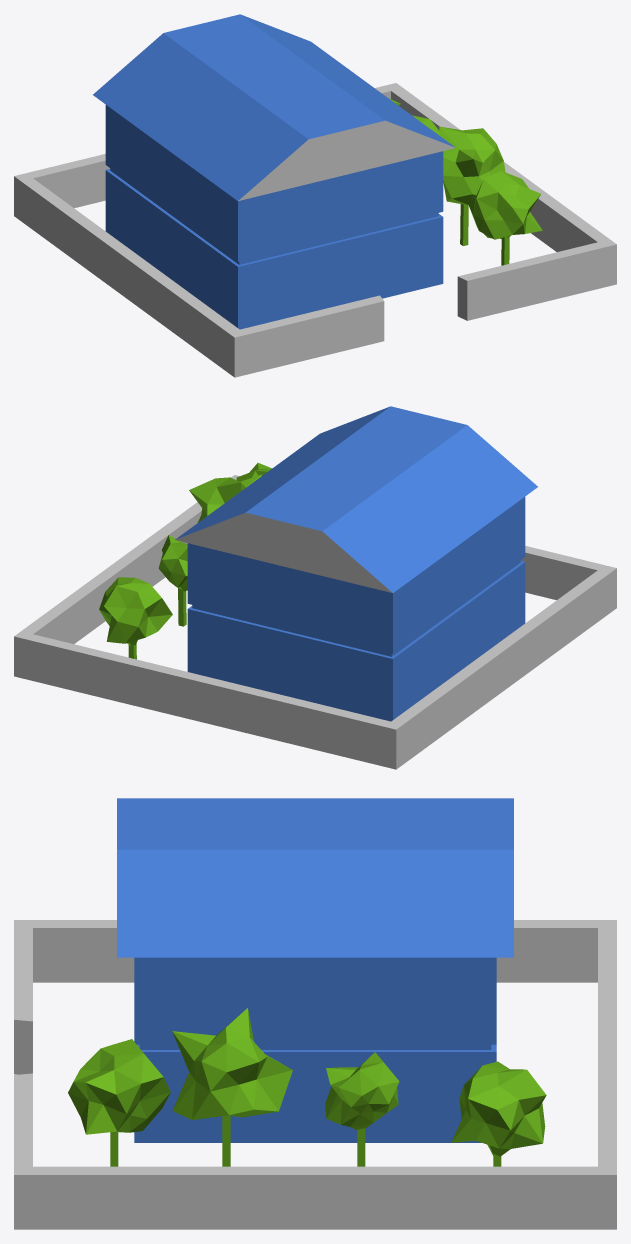
Rendered from house5.fbx.
The picture shows the model from 3 angles, top to bottom: view 1: azimuth 30°, elevation 25°; view 2: azimuth 150°, elevation 25°; view 3: azimuth 270°, elevation 25°; orthographic projection. The views are drawn at different scales.
Parts seen in each view (by area): view 1: house_3; view 2: house_3; view 3: house_3.
Part boxes in pixels (x1,y1,x2,y2): house_3: [14, 14, 616, 377]; house_3: [14, 406, 616, 769]; house_3: [14, 798, 616, 1229].
Size of the model in its own units: 185 by 84.63 by 185.
